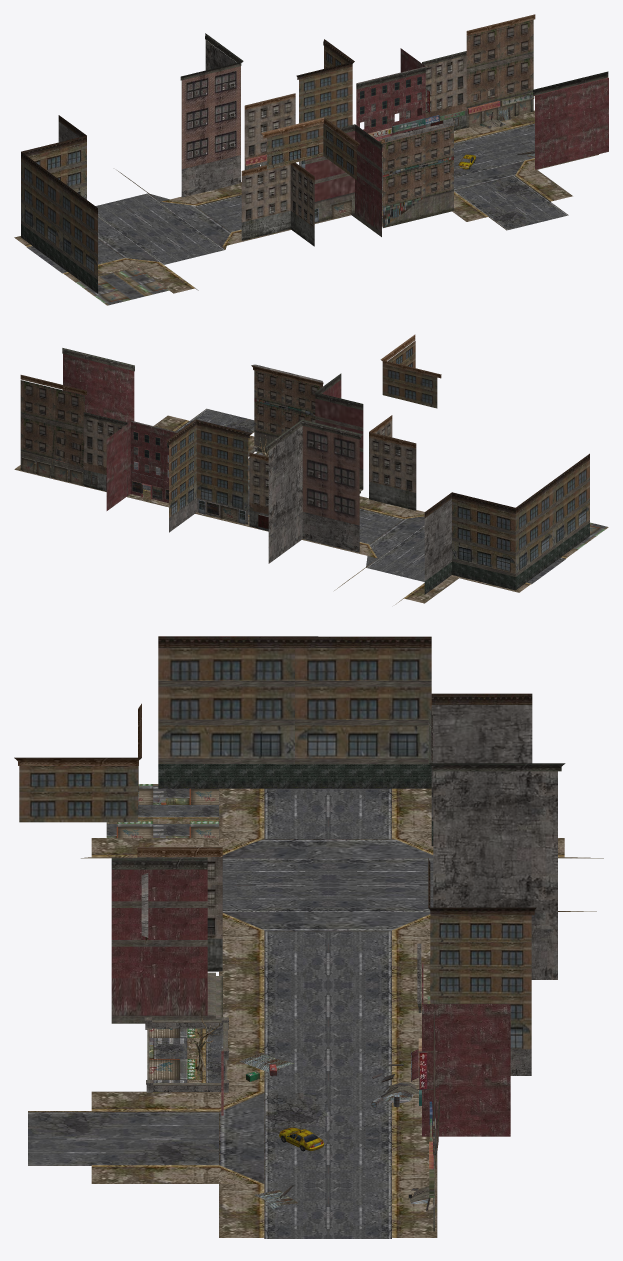
File: ChinaTown_01.glb
3 views of the same model, one above another, from view 1: azimuth 30°, elevation 25°; view 2: azimuth 150°, elevation 25°; view 3: azimuth 270°, elevation 25° (orthographic). The views are drawn at different scales.
Visible parts, largest first — view 1: Box711; view 2: Box711; view 3: Box711.
Boxes of the visible parts, x1,y1,x2,y2 form: Box711: (14, 14, 608, 305); Box711: (14, 334, 608, 604); Box711: (14, 636, 603, 1238).
Bounding box in the file's own units: 120 × 27.32 × 65.38.
Materials: 6 (6 with a texture image).
